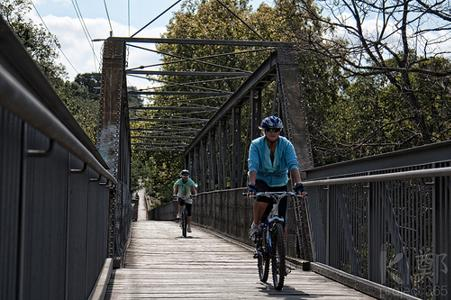person: (245, 116, 307, 277)
